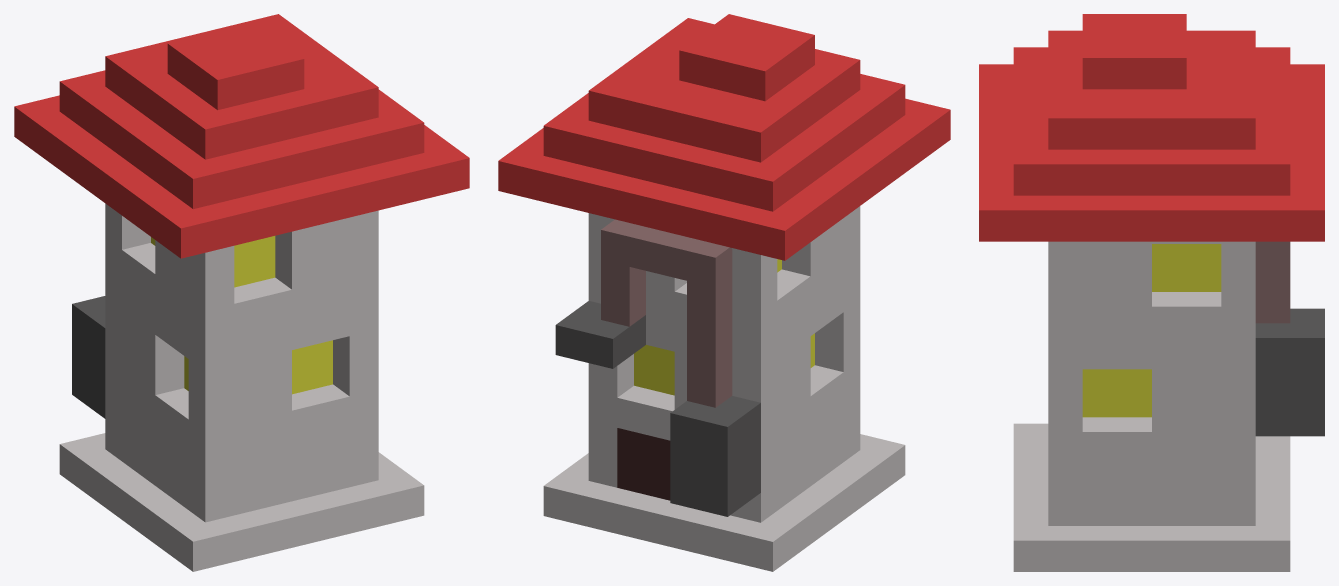
Rendered from MedievalAntenna.glb.
3 renders of one model, left to right at view 1: azimuth 30°, elevation 25°; view 2: azimuth 150°, elevation 25°; view 3: azimuth 270°, elevation 25°, orthographic. The views are drawn at different scales.
Visible parts, largest first — view 1: VoxelModel; view 2: VoxelModel; view 3: VoxelModel.
Part boxes in pixels (bbox=[...]): VoxelModel: bbox=[14, 14, 469, 571]; VoxelModel: bbox=[498, 14, 950, 571]; VoxelModel: bbox=[979, 14, 1324, 571].
Bounding box in the file's own units: 10 × 15 × 10.
